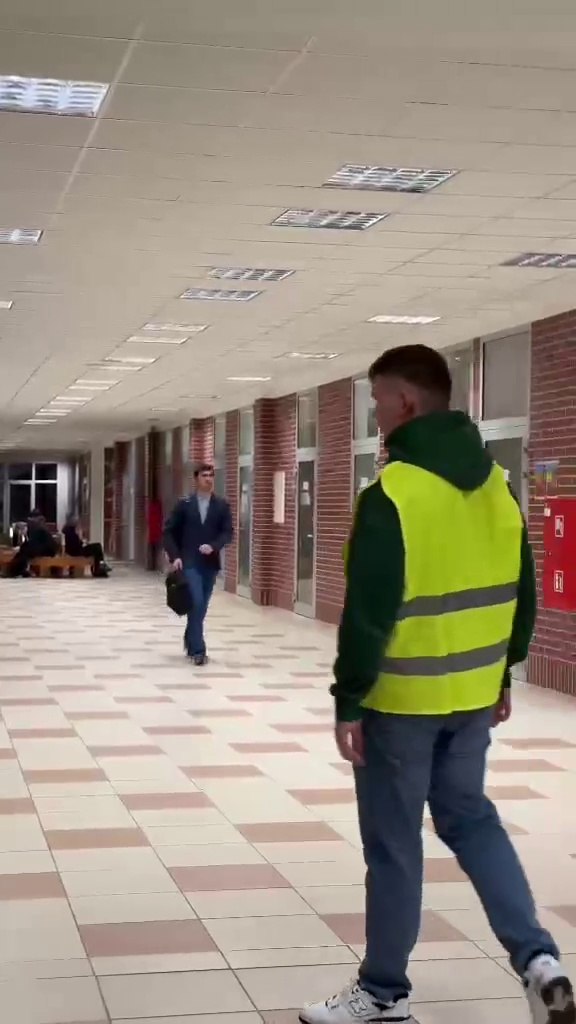no vest: (160, 462, 232, 655)
vest: (322, 337, 574, 1019)
